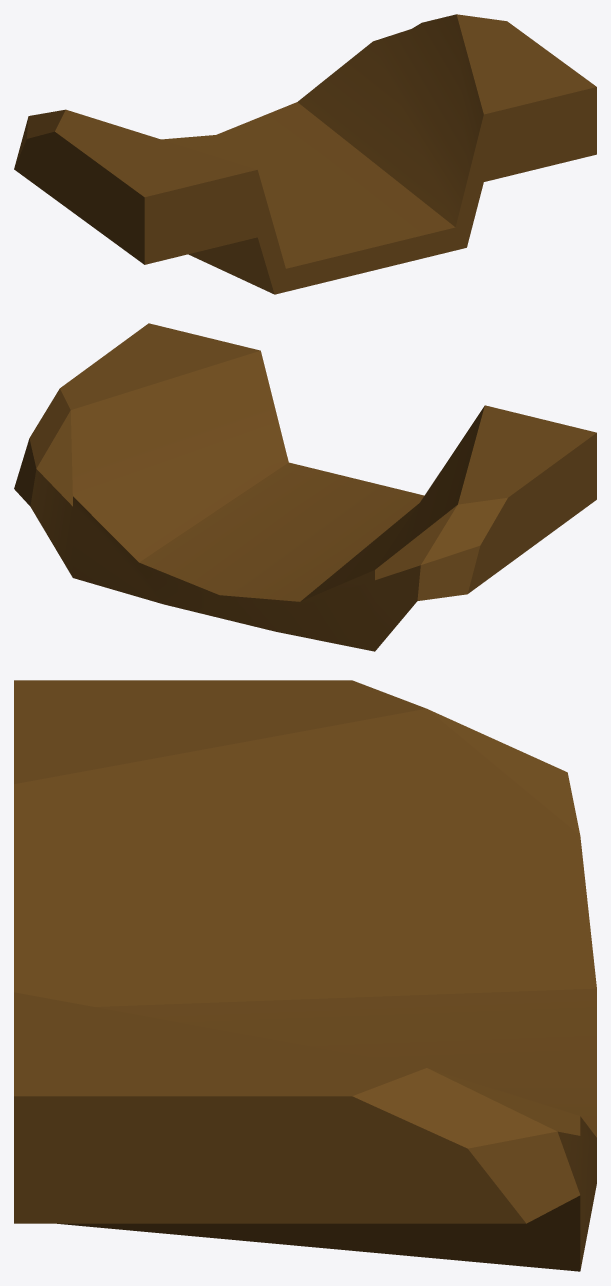
The model's file is riverEnd.fbx.
3 renders of one model, top to bottom at view 1: azimuth 30°, elevation 25°; view 2: azimuth 150°, elevation 25°; view 3: azimuth 270°, elevation 25°, orthographic. The views are drawn at different scales.
Parts seen in each view (by area): view 1: riverEnd; view 2: riverEnd; view 3: riverEnd.
Boxes of the visible parts, left/top/right/bottom form: riverEnd: left=14, top=14, right=596, bottom=294; riverEnd: left=14, top=323, right=596, bottom=651; riverEnd: left=14, top=680, right=596, bottom=1271.
Bounding box in the file's own units: 200 × 54.54 × 118.
1 material, 1 textured.
